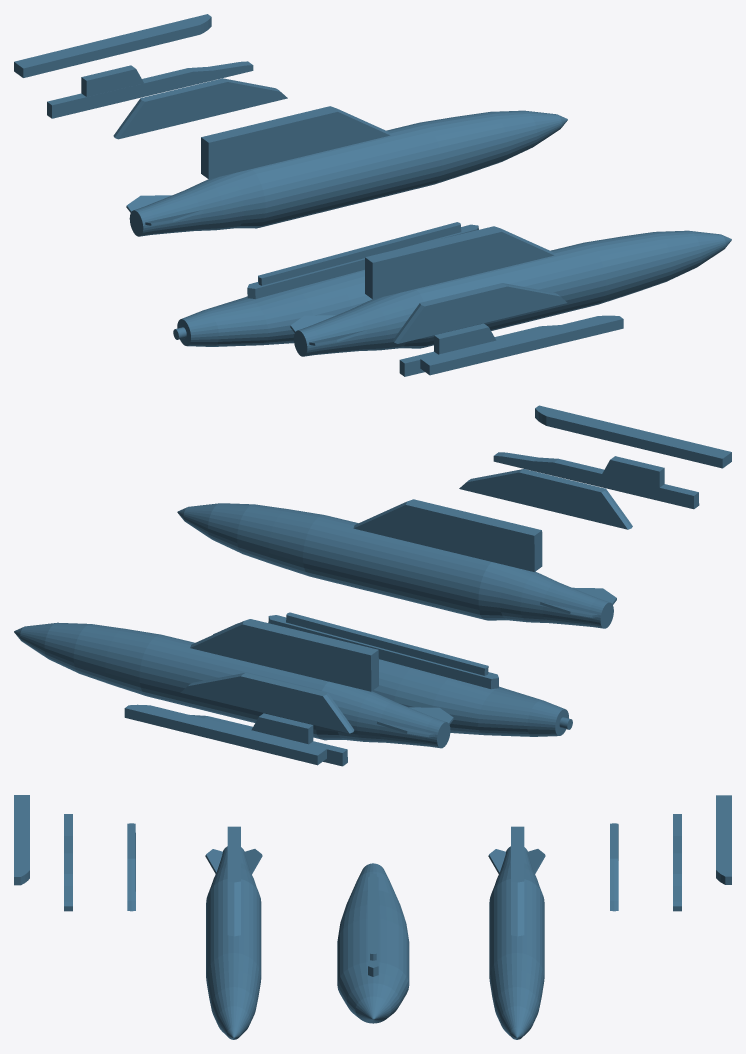
3 renders of one model, top to bottom at view 1: azimuth 30°, elevation 25°; view 2: azimuth 150°, elevation 25°; view 3: azimuth 270°, elevation 25°, orthographic. The views are drawn at different scales.
Parts seen in each view (by area): view 1: 円柱.001, 円柱, 円柱.002, 立方体.014, 立方体.006, 立方体.011, 立方体.003, 立方体.002, 立方体.007, 立方体.012, 立方体.015, 立方体.010 (+3 smaller); view 2: 円柱, 円柱.001, 円柱.002, 立方体.006, 立方体.014, 立方体.003, 立方体.011, 立方体.007, 立方体.002, 立方体.005, 立方体.015, 立方体.010 (+3 smaller); view 3: 円柱.002, 円柱, 円柱.001, 立方体.006, 立方体.014, 立方体.002, 立方体.007, 立方体.003, 立方体.011, 立方体.015, 立方体.010, 立方体.012 (+1 smaller).
Boxes of the visible parts, x1,y1,x2,y2 form: 円柱.001: [129, 110, 567, 236]; 円柱: [293, 230, 731, 356]; 円柱.002: [173, 270, 372, 346]; 立方体.014: [201, 106, 390, 179]; 立方体.006: [365, 226, 554, 299]; 立方体.011: [113, 78, 287, 139]; 立方体.003: [393, 283, 567, 343]; 立方体.002: [420, 315, 623, 375]; 立方体.007: [14, 14, 211, 77]; 立方体.012: [47, 61, 253, 118]; 立方体.015: [258, 222, 461, 285]; 立方体.010: [247, 224, 478, 298]; 円柱: [177, 503, 613, 628]; 円柱.001: [14, 622, 450, 748]; 円柱.002: [213, 623, 572, 736]; 立方体.006: [353, 499, 542, 571]; 立方体.014: [190, 619, 378, 691]; 立方体.003: [459, 469, 632, 529]; 立方体.011: [180, 673, 354, 733]; 立方体.007: [124, 704, 326, 765]; 立方体.002: [535, 405, 731, 468]; 立方体.005: [493, 452, 699, 509]; 立方体.015: [286, 612, 488, 675]; 立方体.010: [268, 615, 498, 689]; 円柱.002: [337, 863, 409, 1023]; 円柱: [206, 846, 261, 1039]; 円柱.001: [489, 846, 544, 1039]; 立方体.006: [227, 826, 240, 936]; 立方体.014: [511, 826, 524, 936]; 立方体.002: [14, 795, 29, 885]; 立方体.007: [716, 795, 731, 884]; 立方体.003: [127, 823, 135, 911]; 立方体.011: [610, 823, 618, 911]; 立方体.015: [370, 873, 376, 960]; 立方体.010: [368, 877, 378, 976]; 立方体.012: [673, 814, 681, 911].
Bounding box in the file's own units: 7.09 × 2.05 × 10.76.
